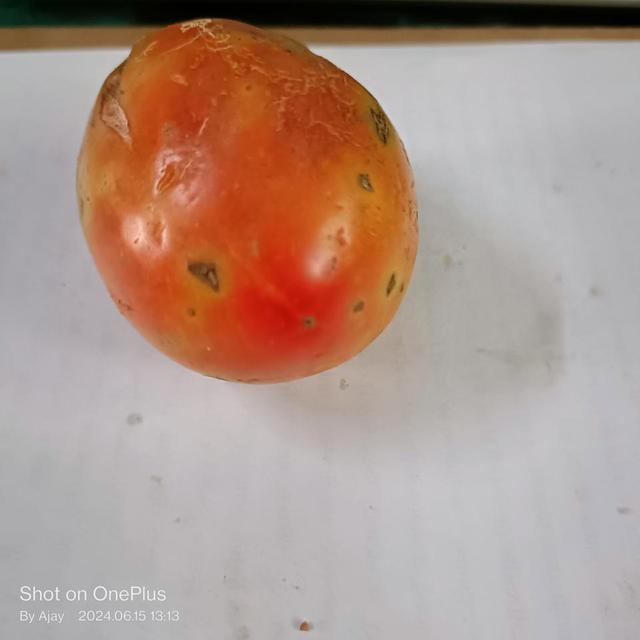Bacterial Spot Fruit: (14, 16, 254, 182)
